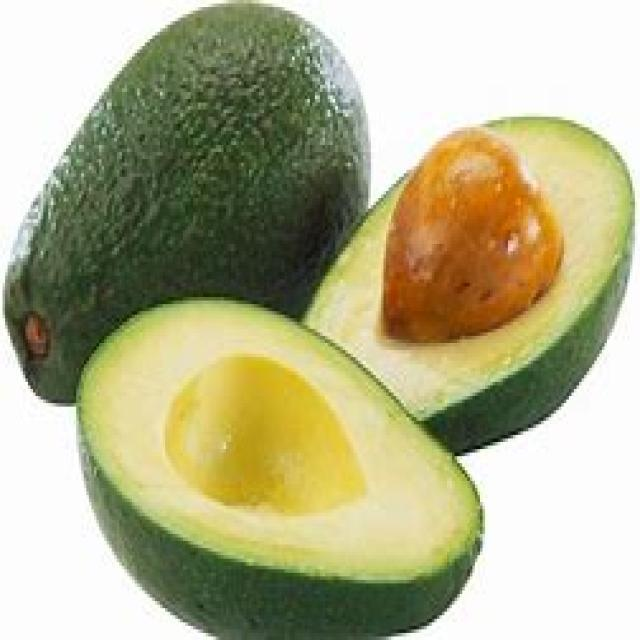avocado: (1, 8, 366, 406), (69, 296, 483, 638), (302, 114, 640, 449)
